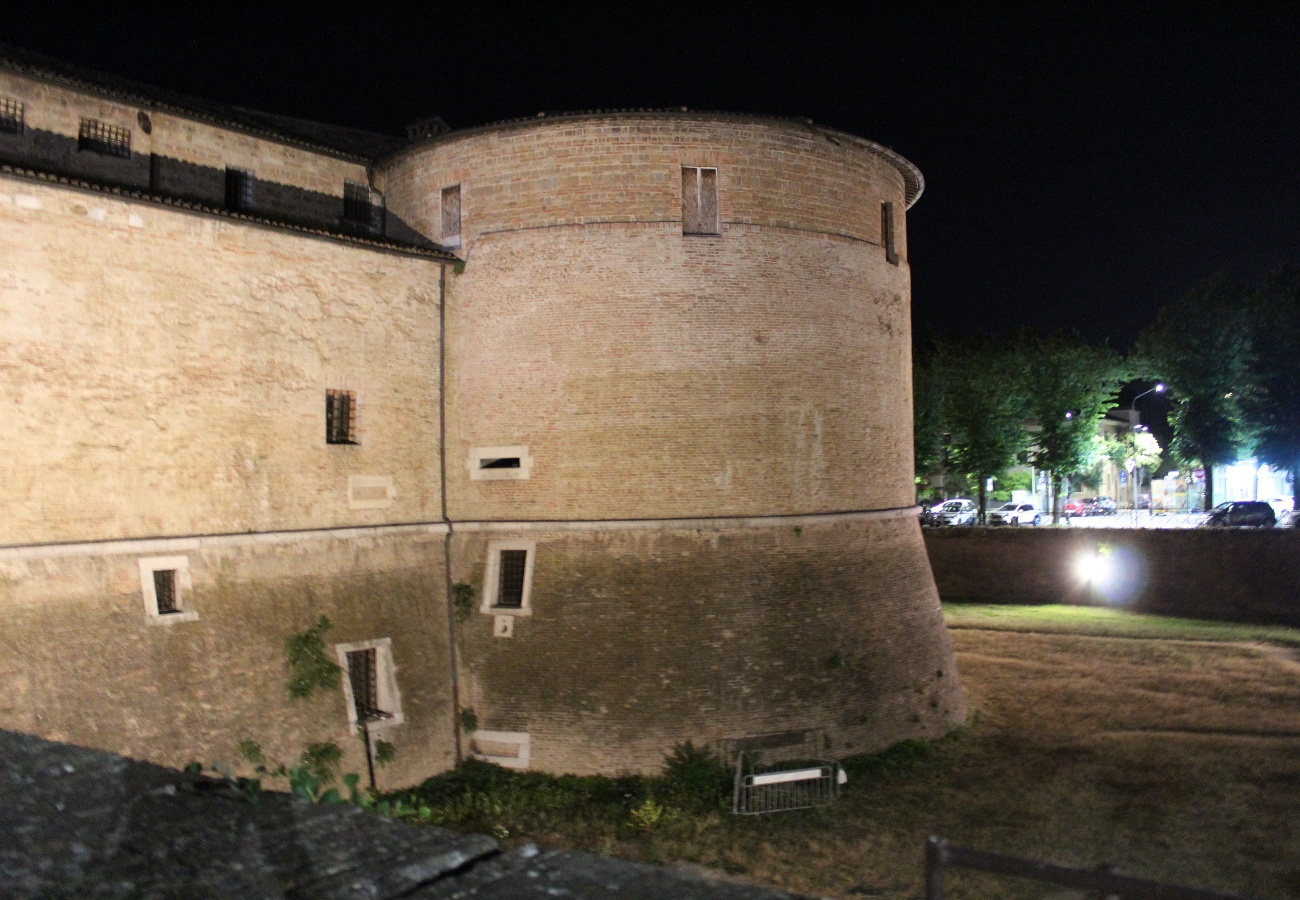Rocca Costanza: (1, 111, 969, 869)
